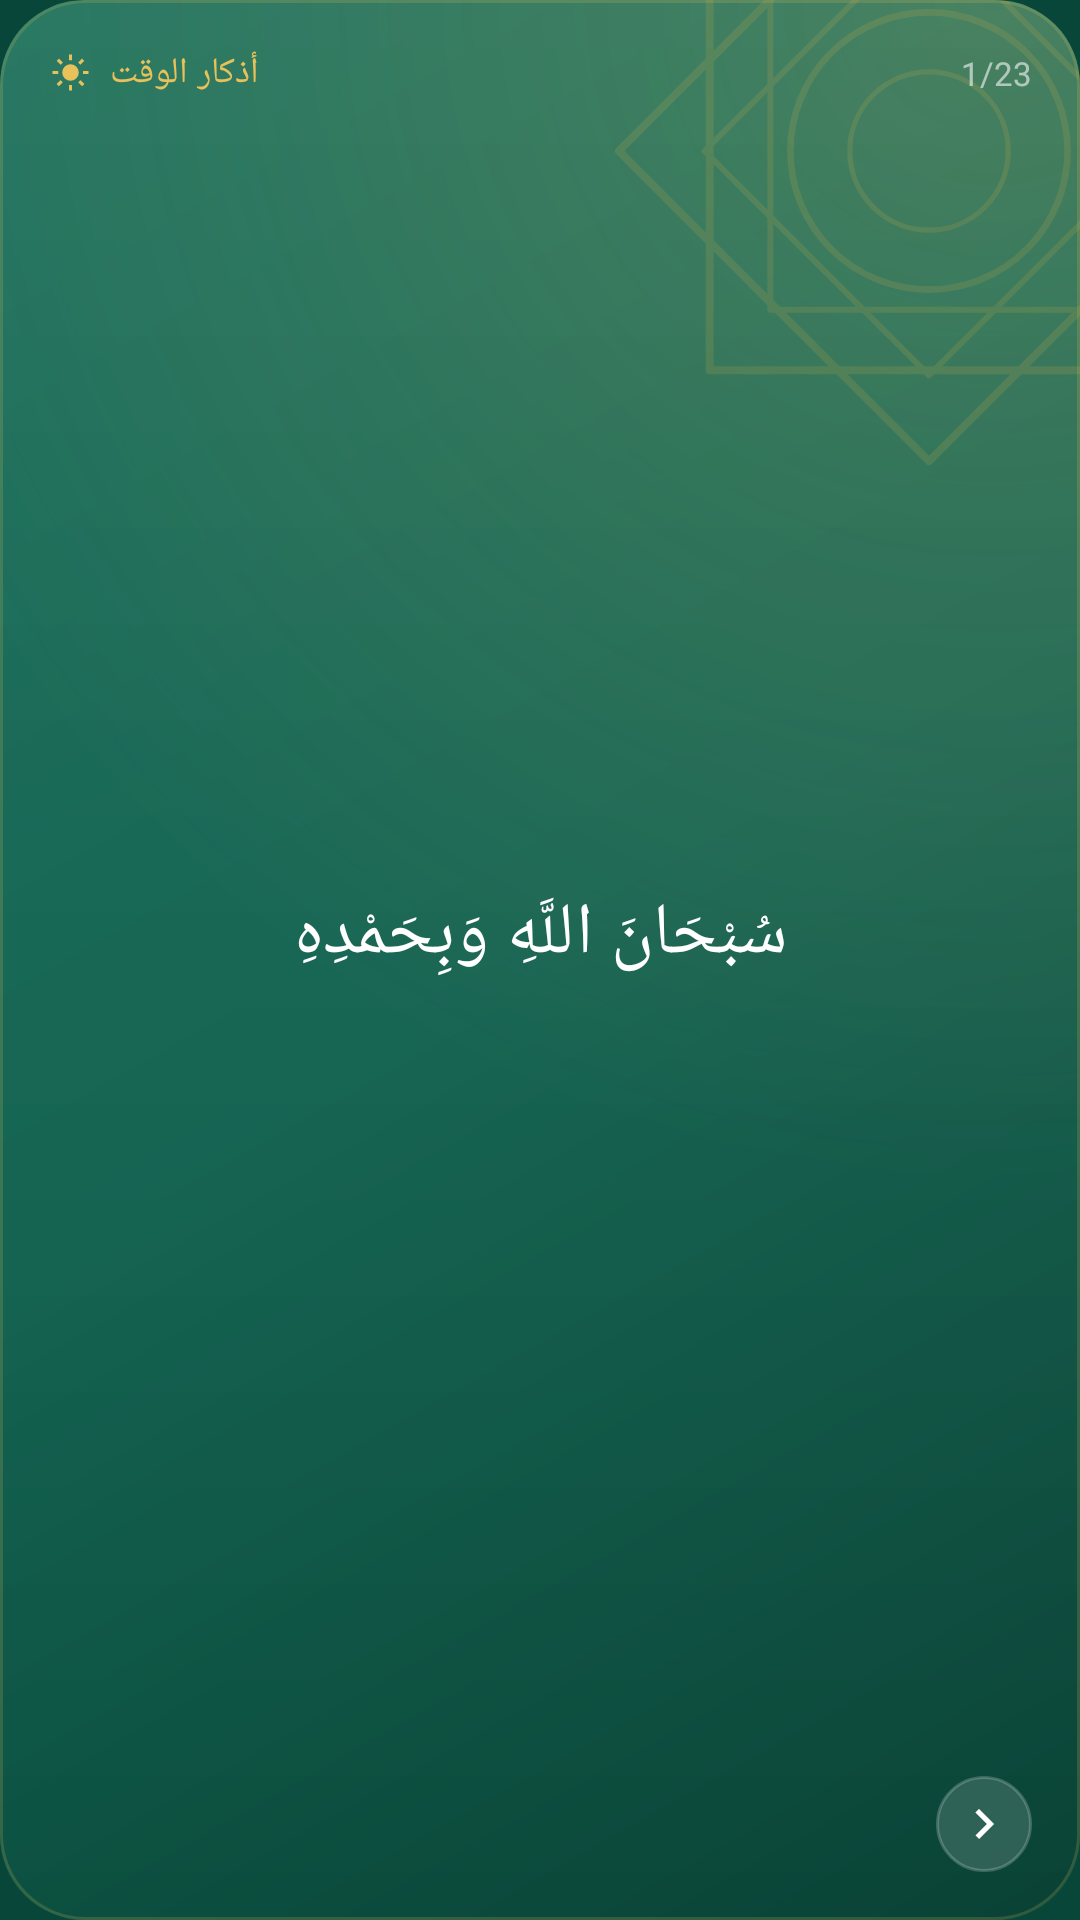

Screen size 1080px×1920px. Icon name, then its center in pixels as (x,y):
sun: (70,72)
التالي: (984,1824)
